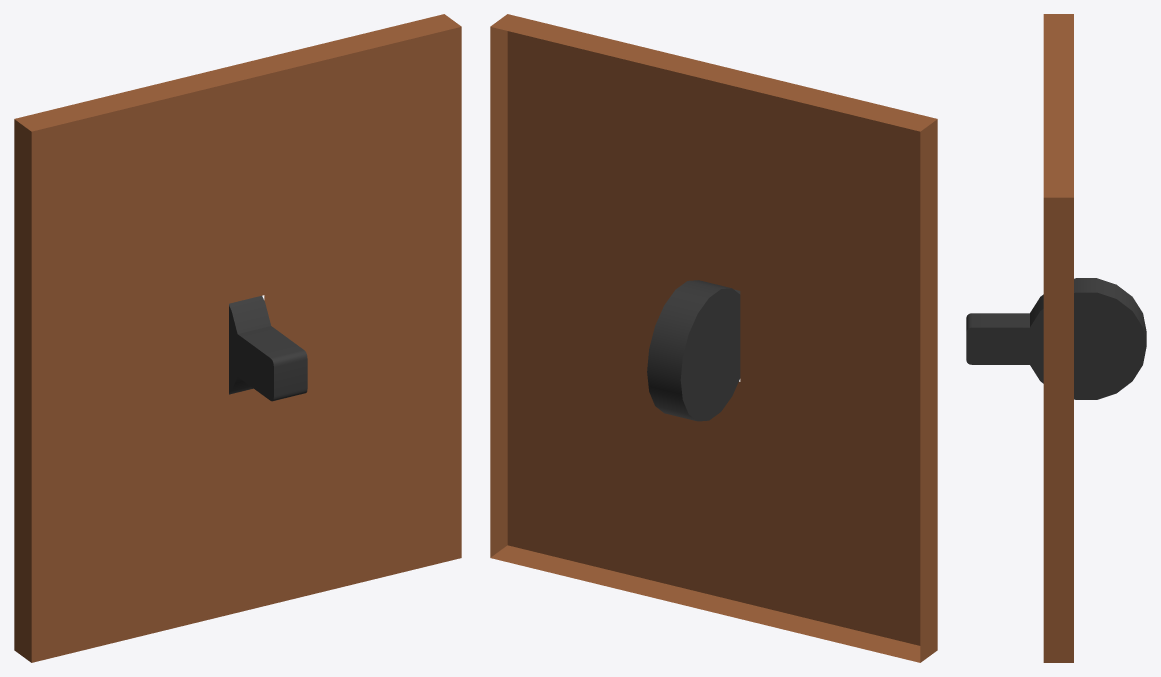
File: LightSwitch.FBX
3 views of the same model, side by side, from view 1: azimuth 30°, elevation 25°; view 2: azimuth 150°, elevation 25°; view 3: azimuth 270°, elevation 25° (orthographic). The views are drawn at different scales.
Visible parts, largest first — view 1: Surround, Switch; view 2: Surround, Switch; view 3: Surround, Switch.
Boxes of the visible parts, x1=… form: Surround: x1=14, y1=14, x2=461, y2=662; Switch: x1=229, y1=295, x2=307, y2=401; Surround: x1=490, y1=14, x2=937, y2=662; Switch: x1=647, y1=280, x2=740, y2=421; Surround: x1=1043, y1=14, x2=1073, y2=662; Switch: x1=966, y1=278, x2=1146, y2=399.
Bounding box in the file's own units: 19.69 × 23.23 × 8.16.
